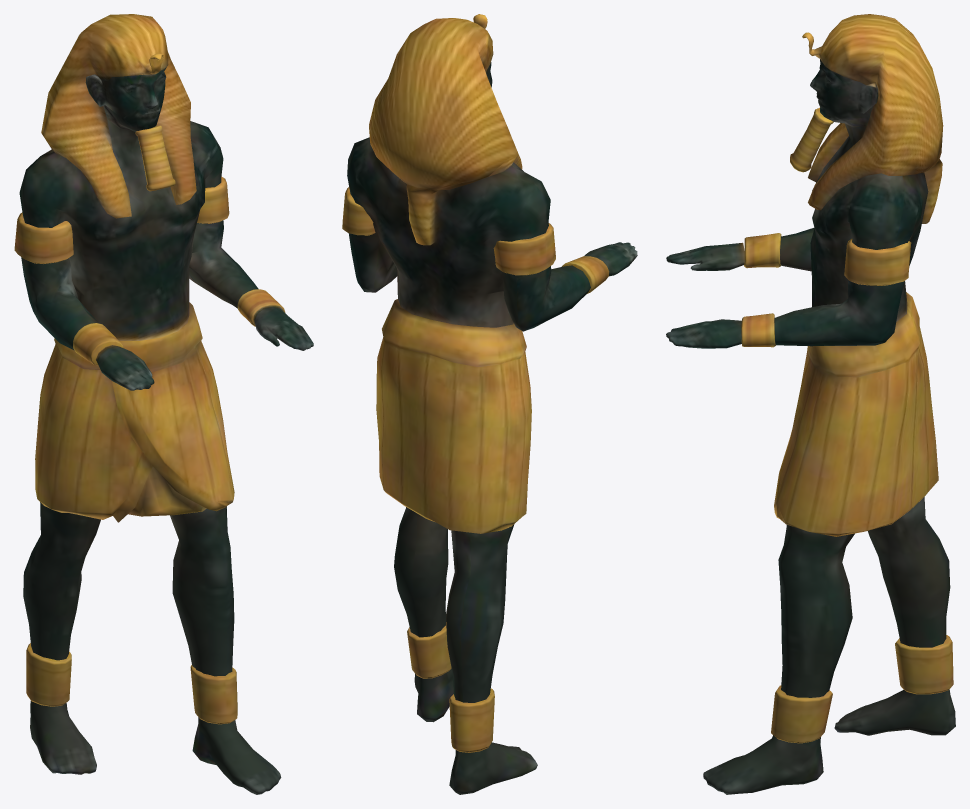
File: 127-monumenttopriests.glb
3 views of the same model, side by side, from view 1: azimuth 30°, elevation 25°; view 2: azimuth 150°, elevation 25°; view 3: azimuth 270°, elevation 25° (orthographic).
Size of the model in its own units: 1.58 by 5.48 by 1.95.
1 material, 1 textured.
